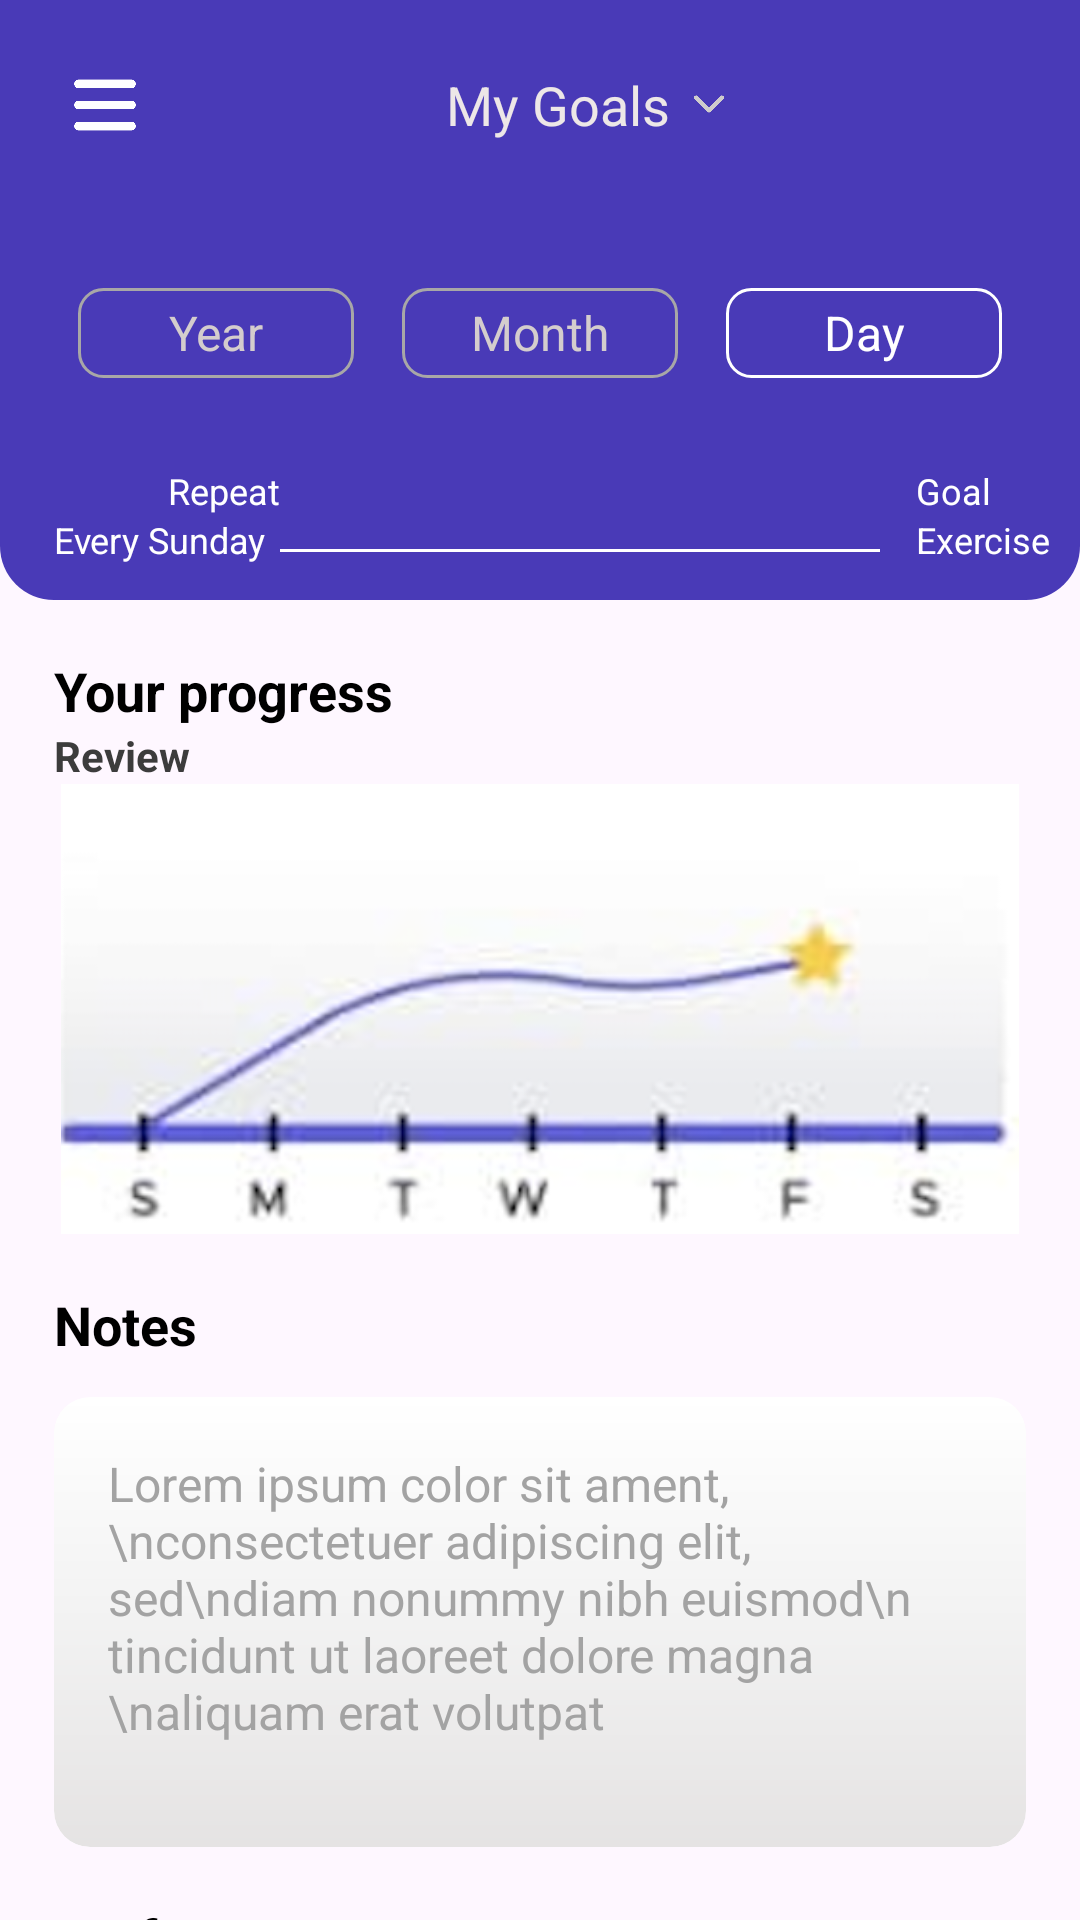

Where icons sit on this 1080w x 1920h app screen, as {"left": x1, "top": y1, "right": x2, "bottom": y2}:
arrow: {"left": 694, "top": 95, "right": 724, "bottom": 113}
menu: {"left": 74, "top": 79, "right": 136, "bottom": 131}
